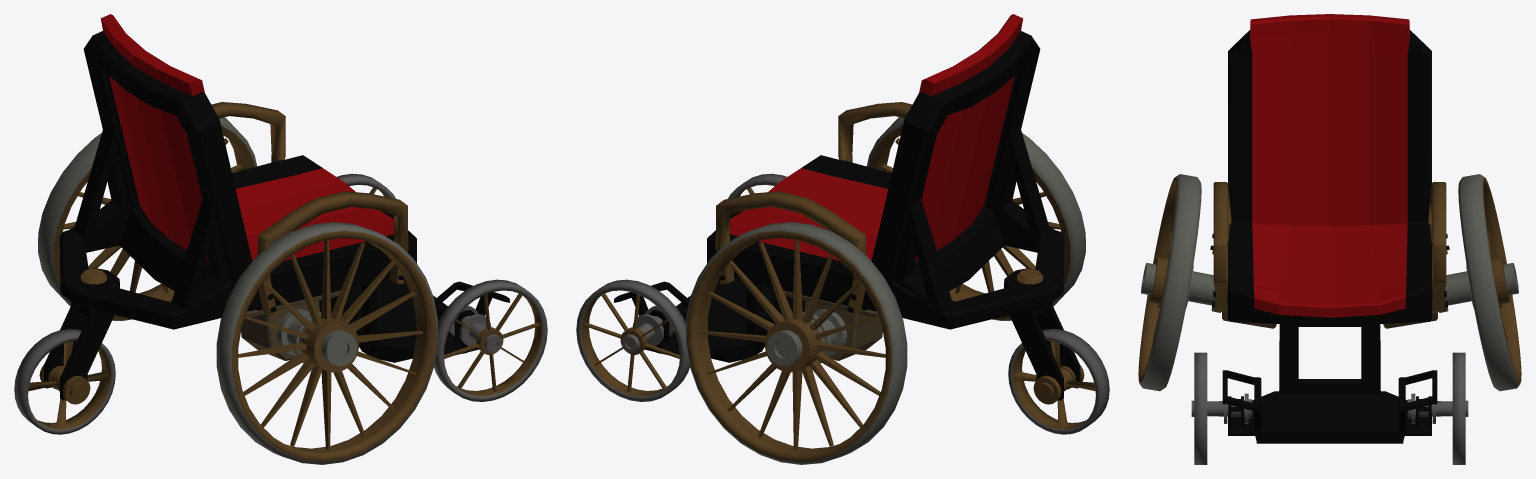
The model's file is wheelchair.glb.
The picture shows the model from 3 angles, left to right: view 1: azimuth 30°, elevation 25°; view 2: azimuth 150°, elevation 25°; view 3: azimuth 270°, elevation 25°; orthographic projection. The views are drawn at different scales.
Parts seen in each view (by area): view 1: Object_1, Object_0; view 2: Object_1, Object_0; view 3: Object_1, Object_0, Object_9.
Part boxes in pixels (<box>): Object_1: <box>14,14,547,464</box>; Object_0: <box>43,31,509,400</box>; Object_1: <box>576,14,1109,464</box>; Object_0: <box>614,31,1080,400</box>; Object_1: <box>1138,14,1521,464</box>; Object_0: <box>1210,30,1449,443</box>; Object_9: <box>1228,396,1431,428</box>.
Bounding box in the file's own units: 1.24 × 0.9501 × 1.02.
3 materials, 1 textured.
